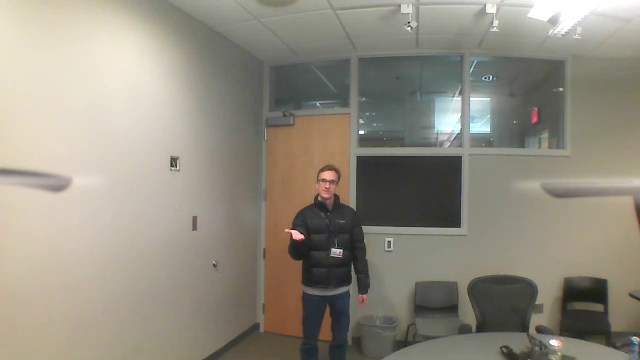land: (278, 223, 309, 245)
